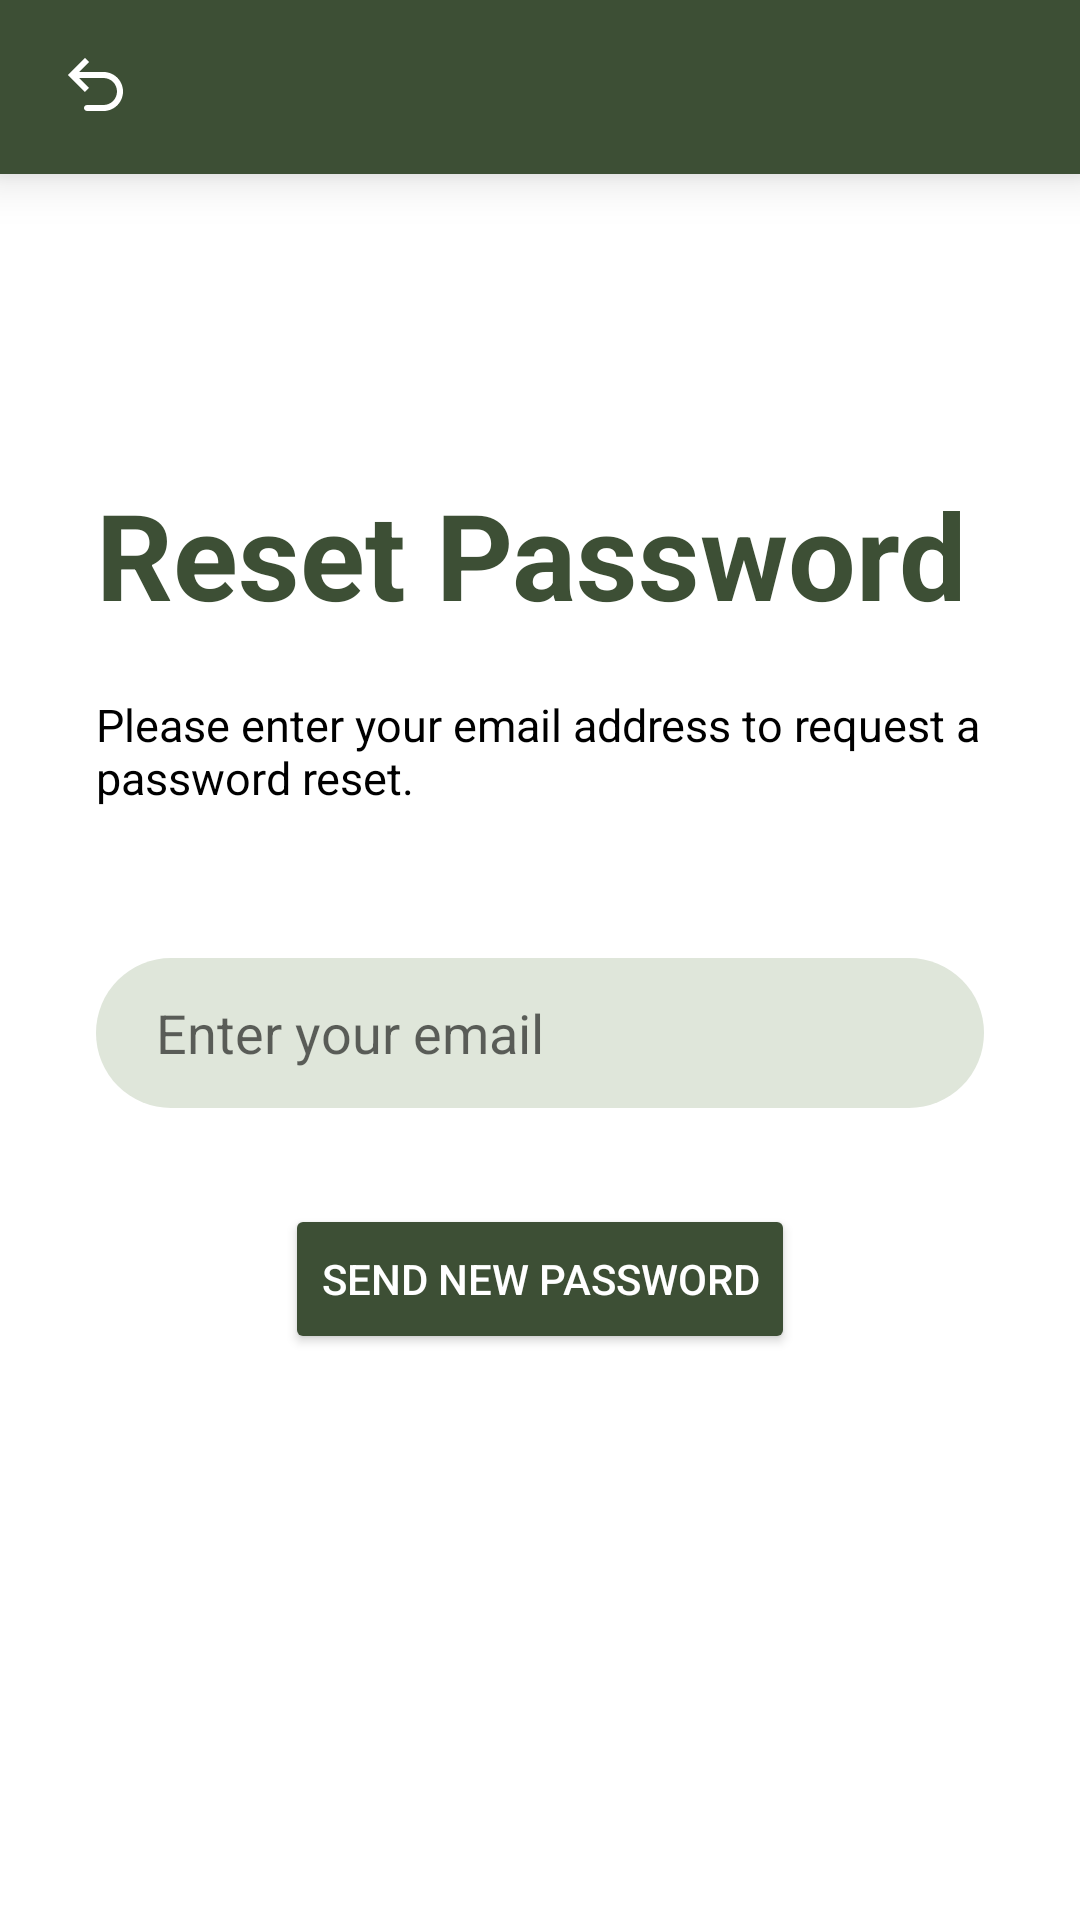

Named icons in this screenshot (1080w x 1920h) and their bounding boxes, (x1, y1, x2, y2):
back: (68, 58, 123, 111)
